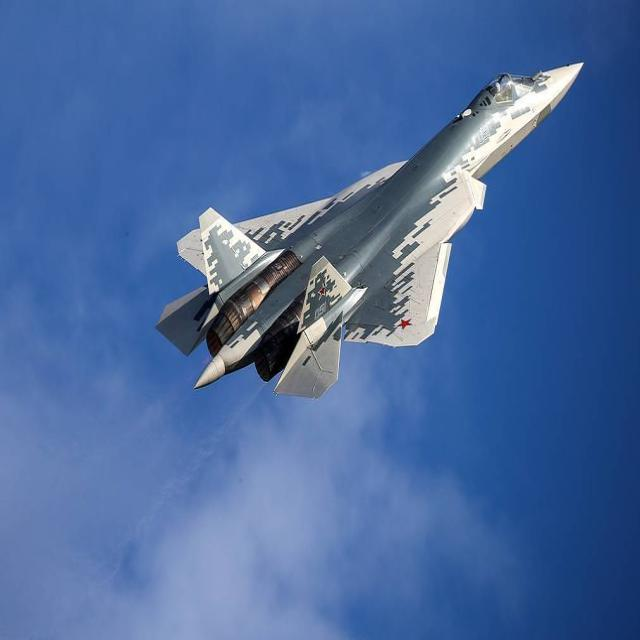MIL_Plane: (156, 61, 584, 400)
